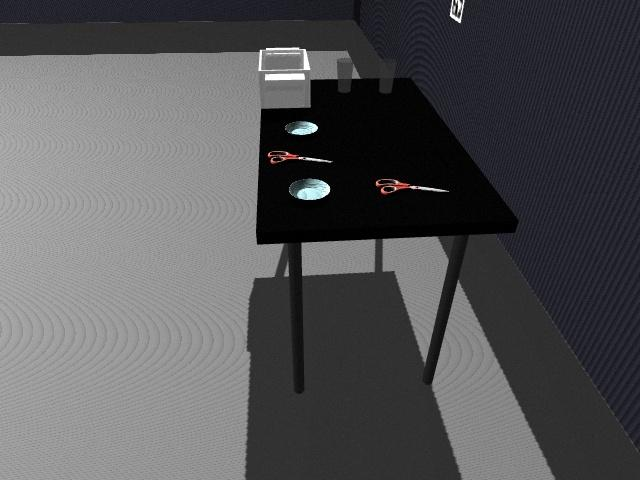cup: (377, 59, 395, 95), (337, 57, 353, 95)
plate: (286, 177, 331, 202), (283, 121, 319, 136)
scissors: (375, 177, 448, 196), (267, 150, 332, 165)
